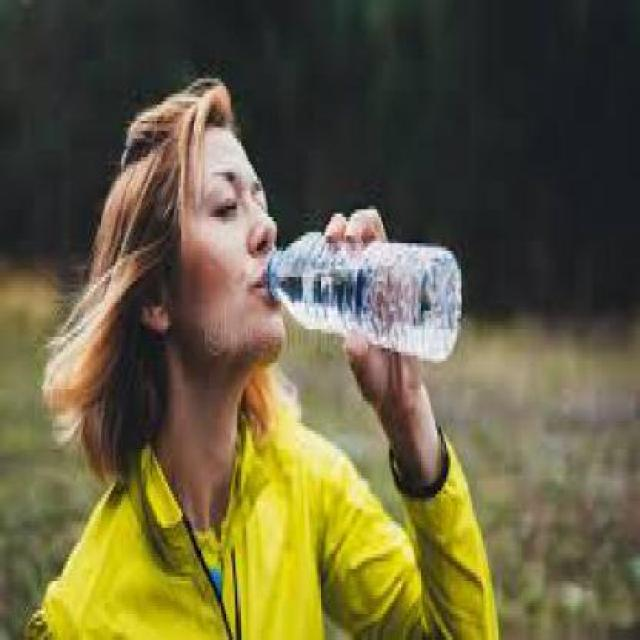Drinking: (255, 183, 483, 374)
